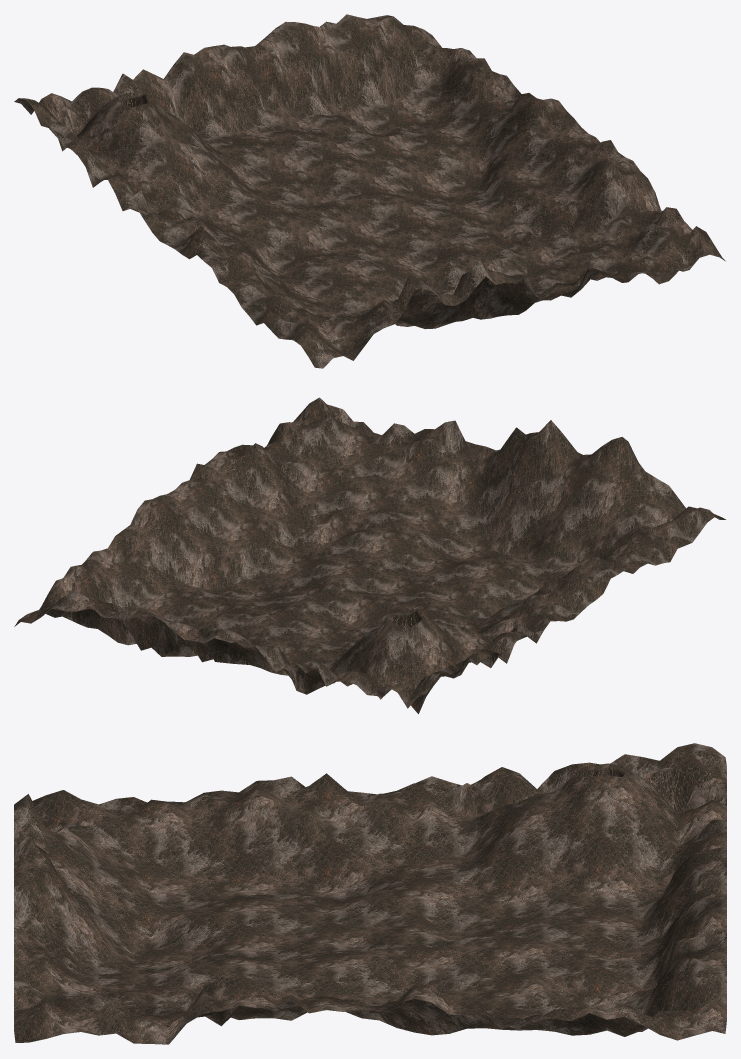
The model's file is Escenario_Volcan_TerrenoPasto.glb.
3 renders of one model, top to bottom at view 1: azimuth 30°, elevation 25°; view 2: azimuth 150°, elevation 25°; view 3: azimuth 270°, elevation 25°, orthographic. The views are drawn at different scales.
Parts seen in each view (by area): view 1: Plane; view 2: Plane; view 3: Plane.
Part boxes in pixels (bbox=[...]): Plane: bbox=[14, 14, 725, 368]; Plane: bbox=[14, 397, 725, 713]; Plane: bbox=[14, 743, 726, 1044].
Size of the model in its own units: 90.35 by 22.99 by 114.
1 material, 1 textured.
